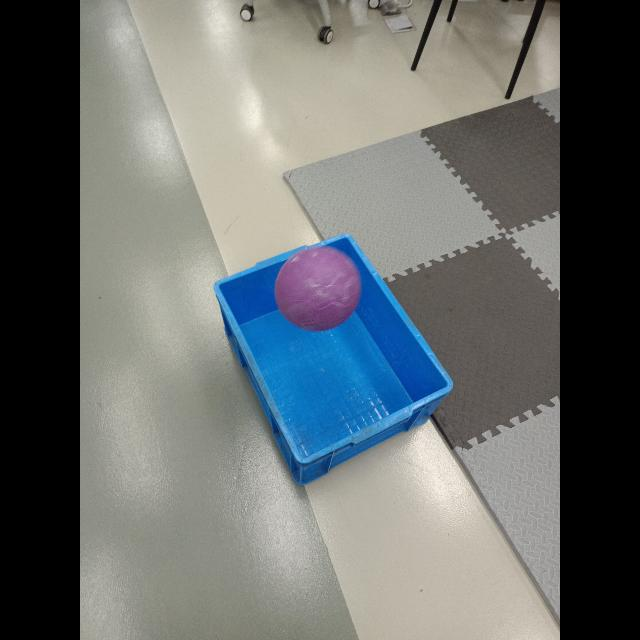P: (274, 244, 360, 332)
